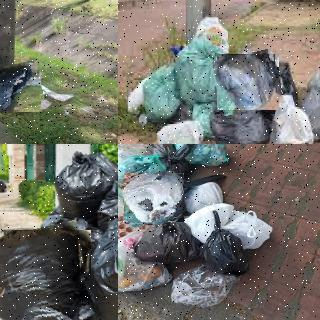Garbage: (0, 224, 96, 320), (215, 51, 282, 113), (188, 205, 274, 251), (174, 37, 234, 102), (56, 154, 118, 212), (122, 170, 186, 225), (201, 212, 253, 278), (118, 232, 173, 290), (169, 269, 245, 309), (137, 215, 203, 261), (267, 93, 316, 144), (0, 64, 42, 117), (118, 155, 172, 196), (143, 66, 183, 118), (195, 12, 233, 56), (155, 116, 208, 144), (183, 181, 227, 211), (302, 62, 320, 135), (175, 144, 230, 167), (118, 148, 135, 174), (0, 172, 10, 193)
